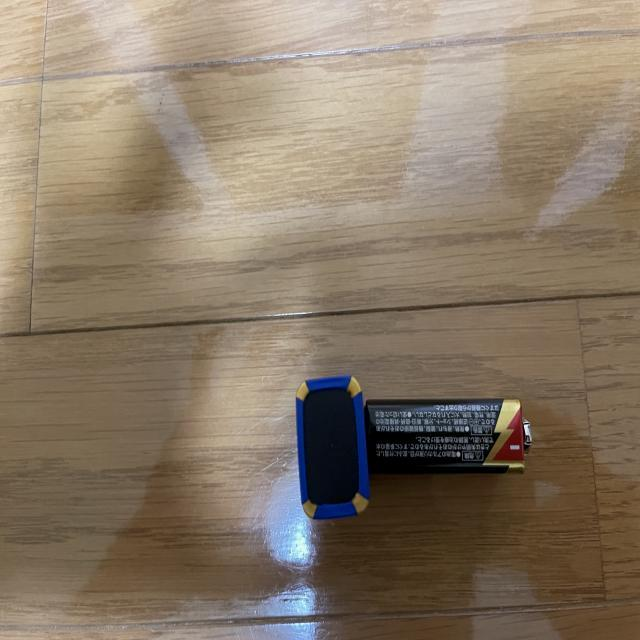9V: (365, 397, 533, 475), (295, 375, 370, 519)
